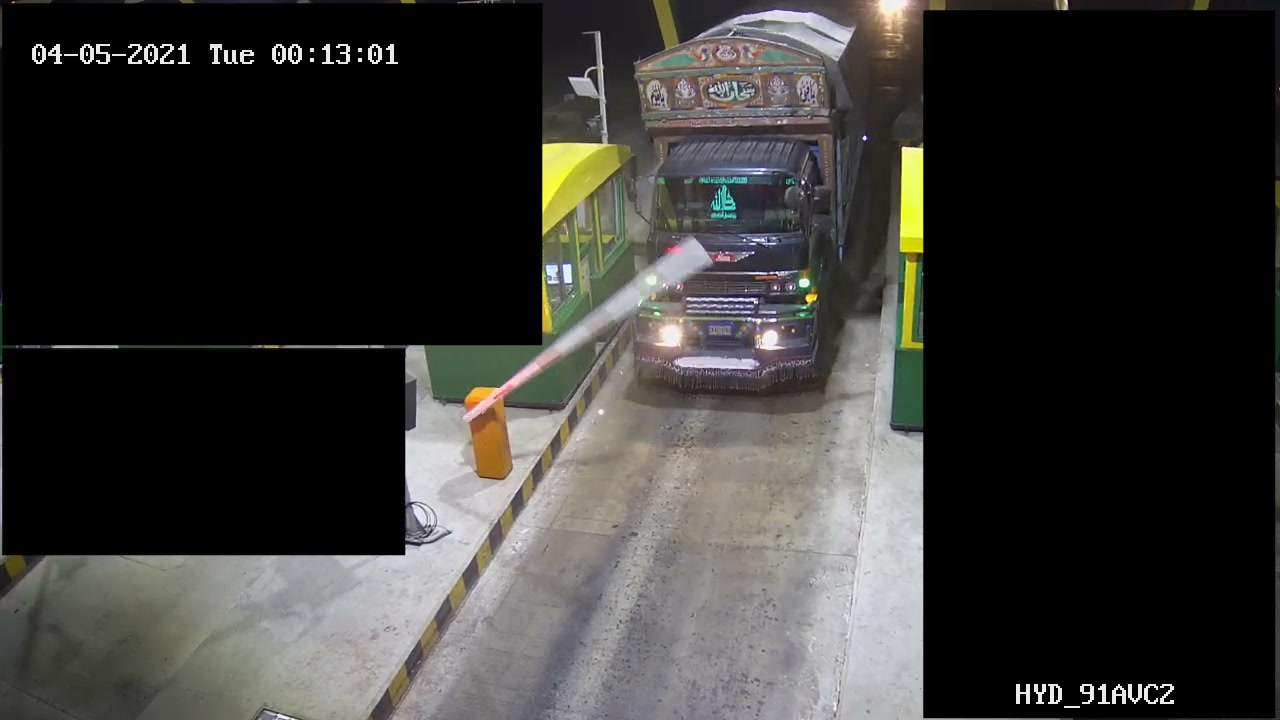F5: (620, 4, 871, 392)
